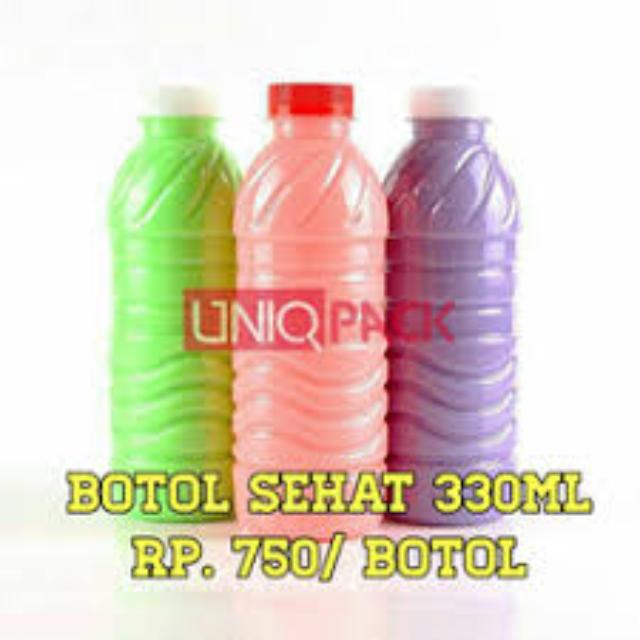trash: (229, 81, 393, 542), (372, 82, 526, 532), (105, 80, 242, 526)
